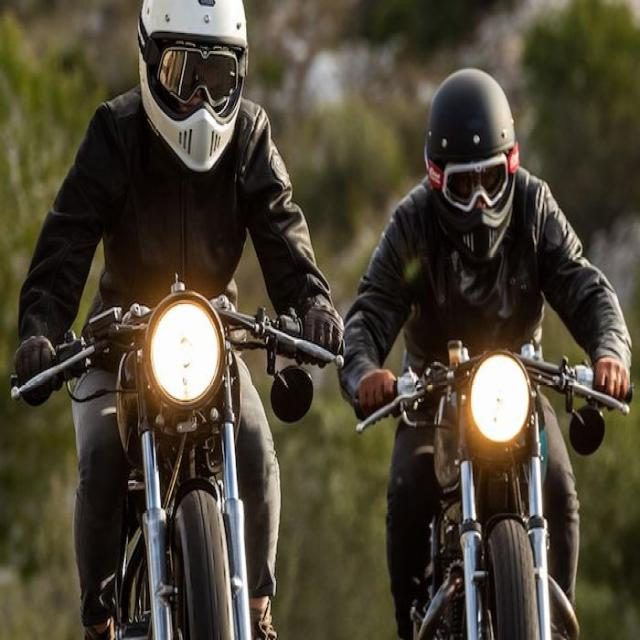Helm: (136, 0, 251, 185), (424, 65, 522, 274)
